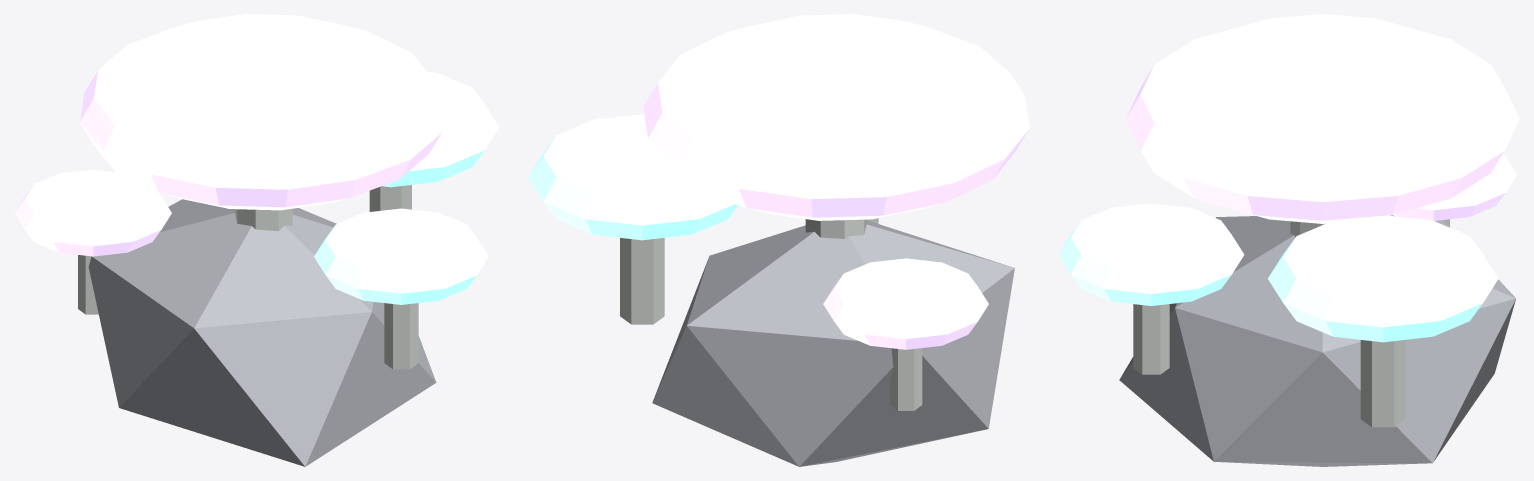
File: flora.glb
3 renders of one model, left to right at view 1: azimuth 30°, elevation 25°; view 2: azimuth 150°, elevation 25°; view 3: azimuth 270°, elevation 25°, orthographic. The views are drawn at different scales.
Parts seen in each view (by area): view 1: rock, mushroom_cap, small_cap_2, small_cap_1, small_cap_0, small_stem_2, mushroom_stem, small_stem_0, small_stem_1; view 2: mushroom_cap, rock, small_cap_0, small_cap_1, small_stem_0, small_stem_1, mushroom_stem; view 3: mushroom_cap, rock, small_cap_0, small_cap_2, small_stem_0, small_cap_1, small_stem_2.
Boxes of the visible parts, bbox=[...] form: rock: bbox=[88, 199, 436, 466]; mushroom_cap: bbox=[80, 14, 446, 210]; small_cap_2: bbox=[314, 208, 488, 304]; small_cap_1: bbox=[14, 169, 171, 256]; small_cap_0: bbox=[382, 71, 499, 187]; small_stem_2: bbox=[384, 303, 418, 369]; mushroom_stem: bbox=[234, 208, 292, 231]; small_stem_0: bbox=[369, 185, 411, 211]; small_stem_1: bbox=[78, 255, 98, 314]; mushroom_cap: bbox=[643, 14, 1029, 220]; rock: bbox=[652, 220, 1014, 466]; small_cap_0: bbox=[528, 114, 738, 240]; small_cap_1: bbox=[823, 258, 988, 349]; small_stem_0: bbox=[620, 238, 664, 324]; small_stem_1: bbox=[890, 348, 922, 410]; mushroom_stem: bbox=[805, 219, 867, 238]; mushroom_cap: bbox=[1126, 14, 1519, 223]; rock: bbox=[1119, 215, 1515, 466]; small_cap_0: bbox=[1268, 215, 1498, 342]; small_cap_2: bbox=[1058, 203, 1244, 305]; small_stem_0: bbox=[1360, 340, 1405, 427]; small_cap_1: bbox=[1393, 153, 1516, 220]; small_stem_2: bbox=[1133, 304, 1169, 374].
Size of the model in its own units: 2.66 by 2.26 by 2.29.
